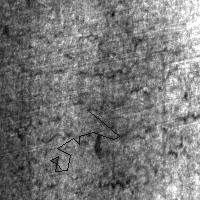crazing: (15, 34, 156, 144), (50, 112, 119, 171)
